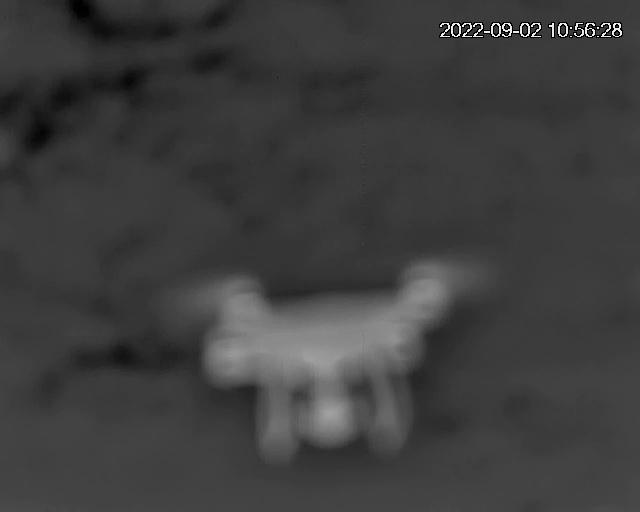DJI-Phantom: (215, 290, 448, 460)
